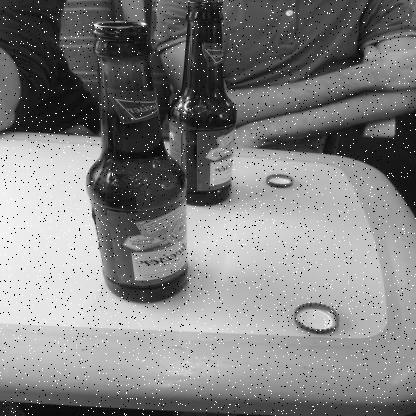glass: (84, 20, 189, 304), (168, 0, 232, 206)
metal: (293, 302, 341, 334), (266, 174, 294, 188)
